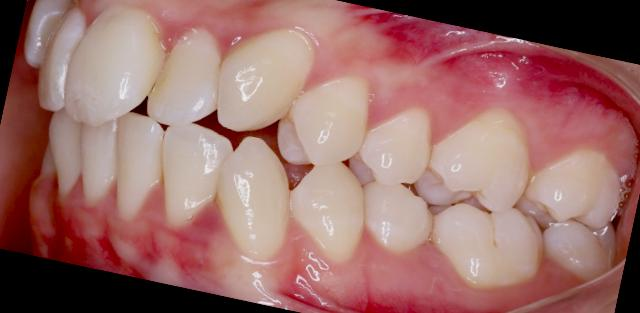canine class II full class: (178, 9, 401, 284)
molar class II 3/4: (403, 90, 570, 299)
